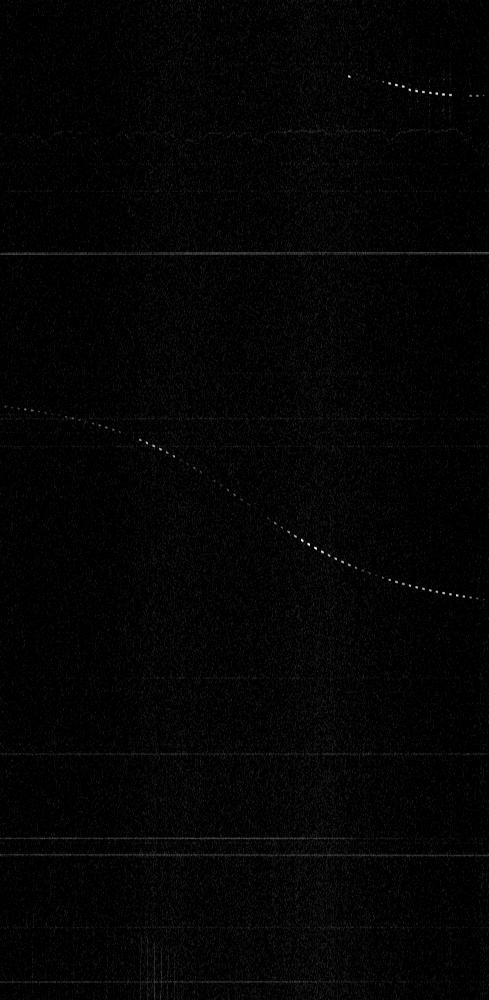signal: (0, 0, 488, 999)
